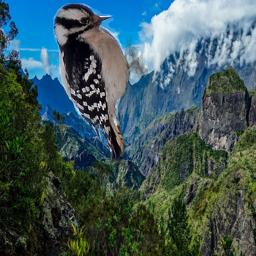Woodpecker: (53, 3, 148, 165)
